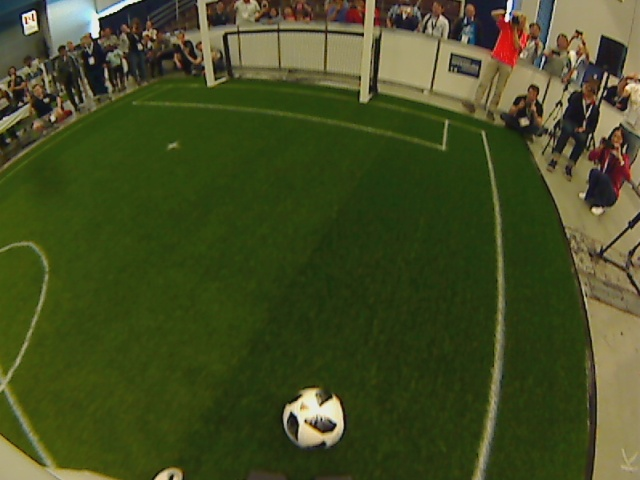ball: (279, 386, 346, 451)
